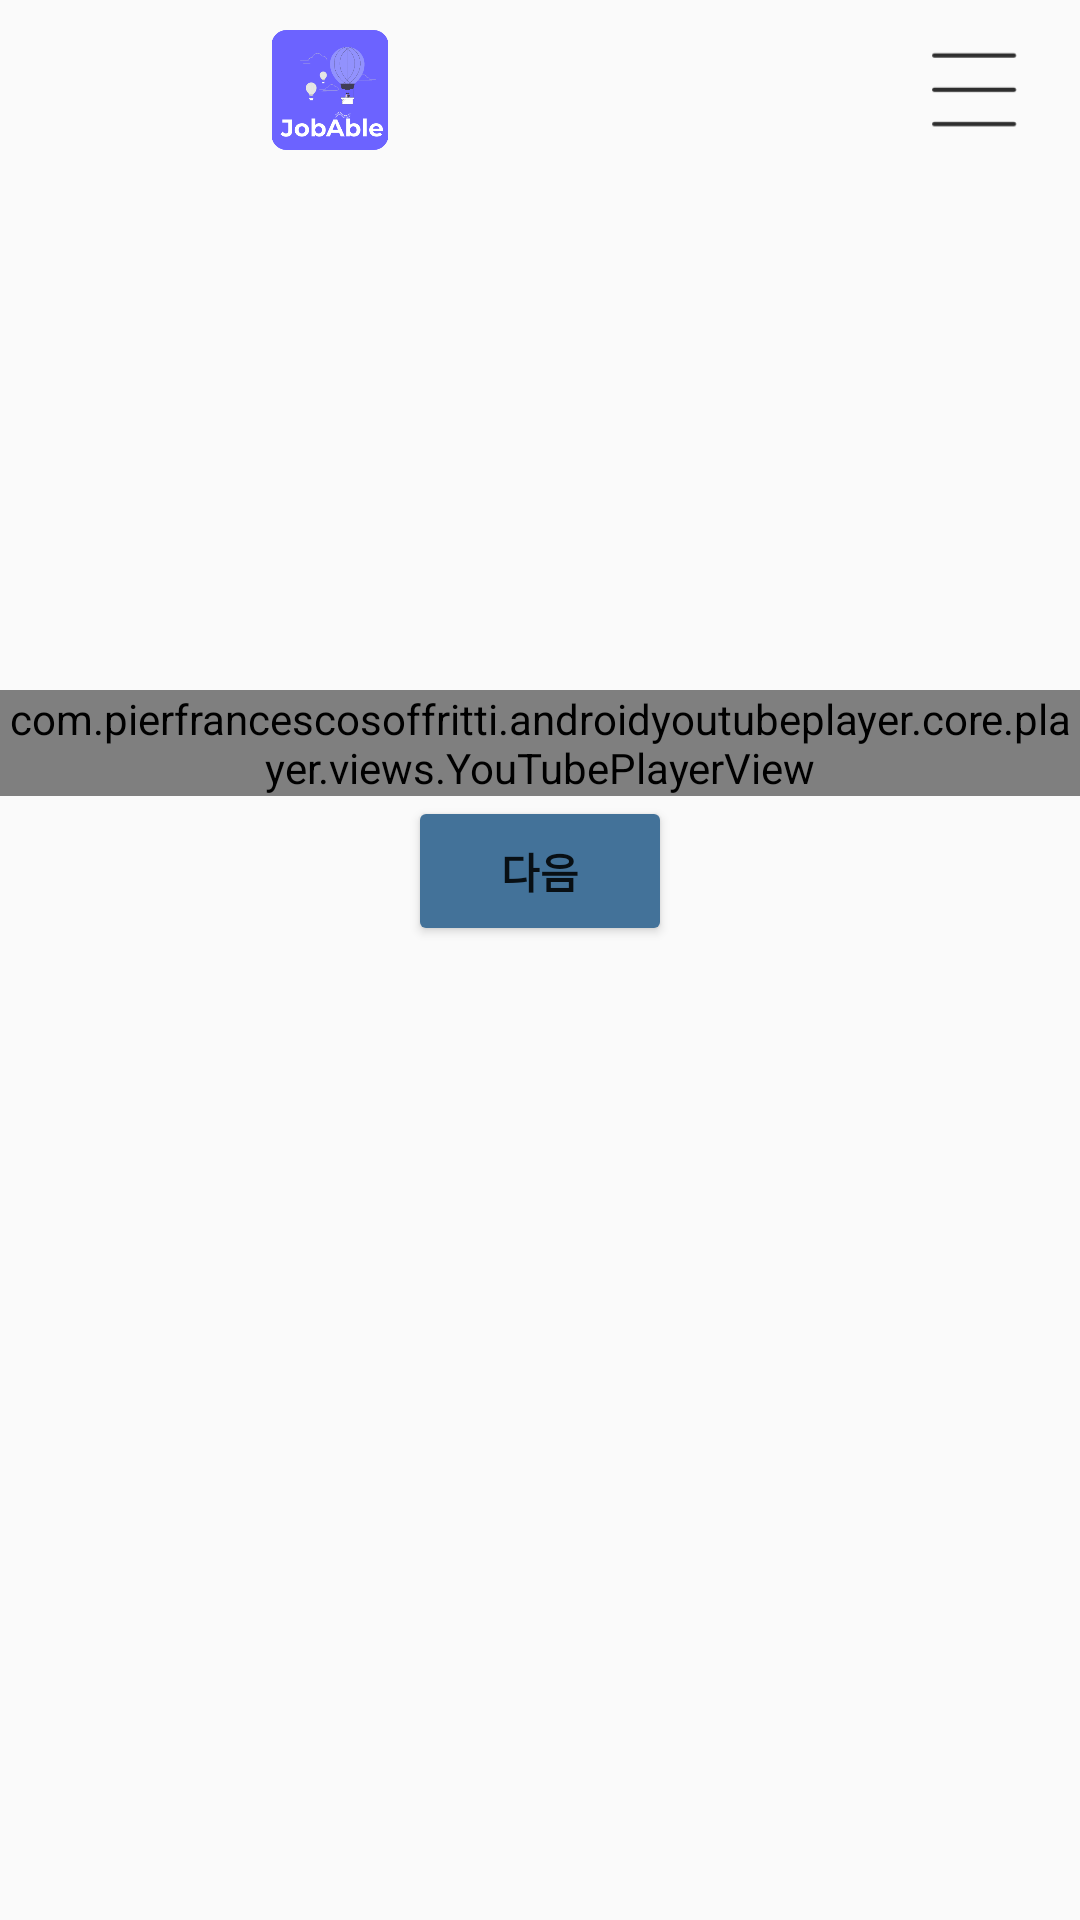

Icons on this 1080px×1920px Android screen, each with the point to tap as (x,y):
menu: (974,90)
